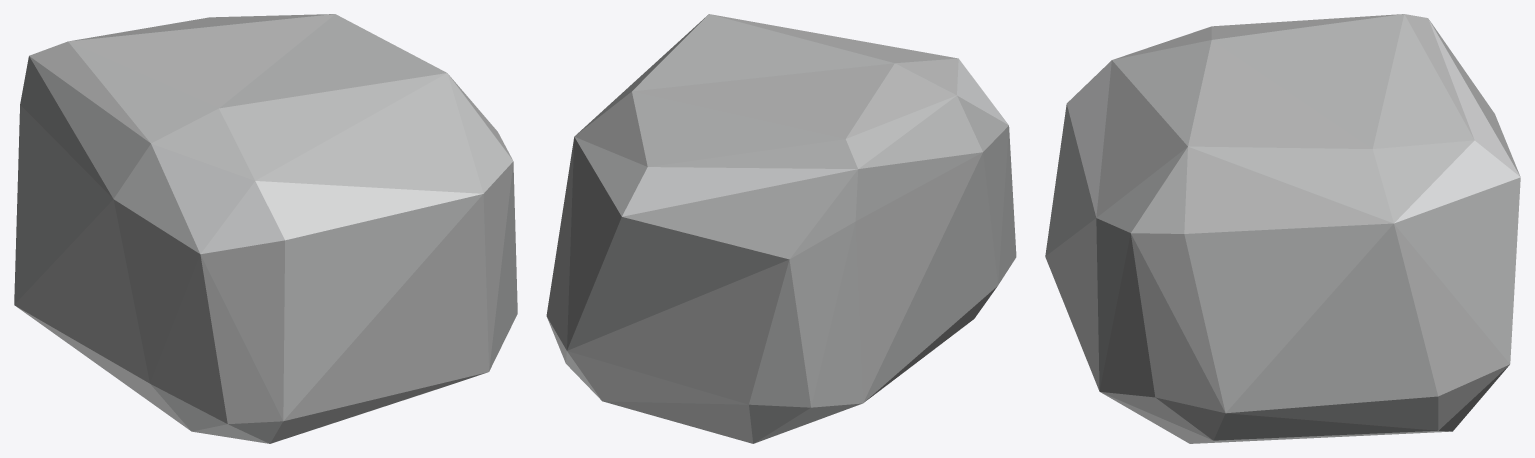
Rendered from stone_10.fbx.
The picture shows the model from 3 angles, left to right: view 1: azimuth 30°, elevation 25°; view 2: azimuth 150°, elevation 25°; view 3: azimuth 270°, elevation 25°; orthographic projection. The views are drawn at different scales.
Visible parts, largest first — view 1: stone_10; view 2: stone_10; view 3: stone_10.
Part boxes in pixels (bbox=[...]): stone_10: bbox=[14, 14, 517, 443]; stone_10: bbox=[546, 14, 1016, 443]; stone_10: bbox=[1045, 14, 1520, 443].
Bounding box in the file's own units: 85.42 × 66.63 × 93.45.
